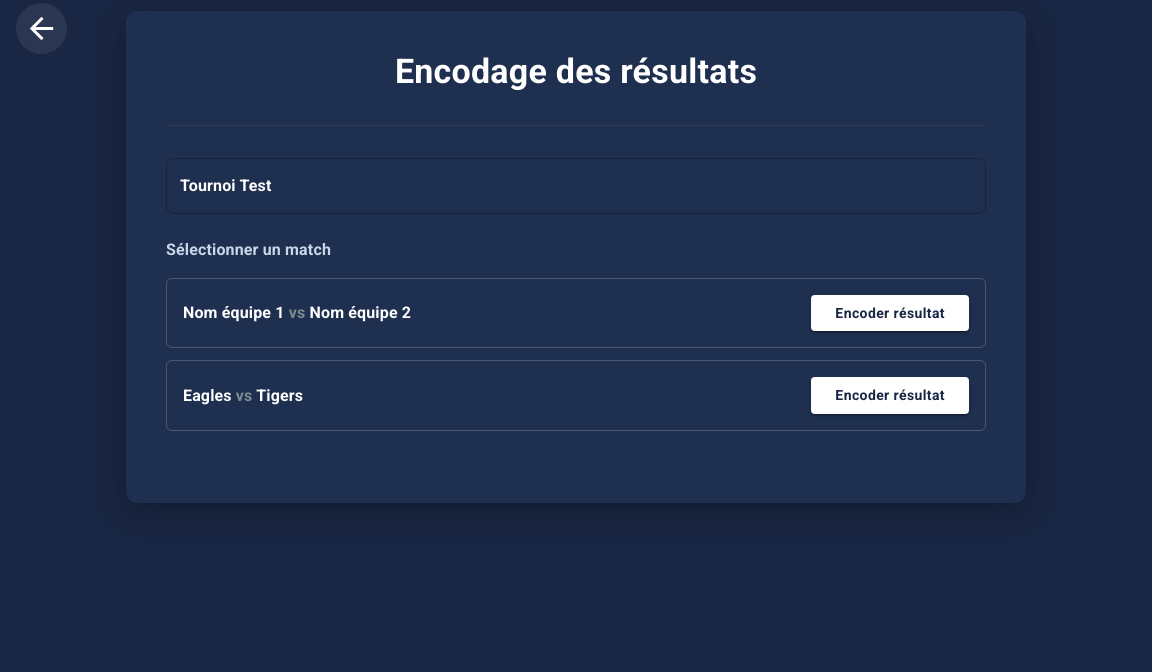
ResultEncodingPage › affiche le message de succès après encodage
Click the button "Encoder résultat" in the row of "Nom équipe 2": [890, 313] box [811, 295, 969, 332]
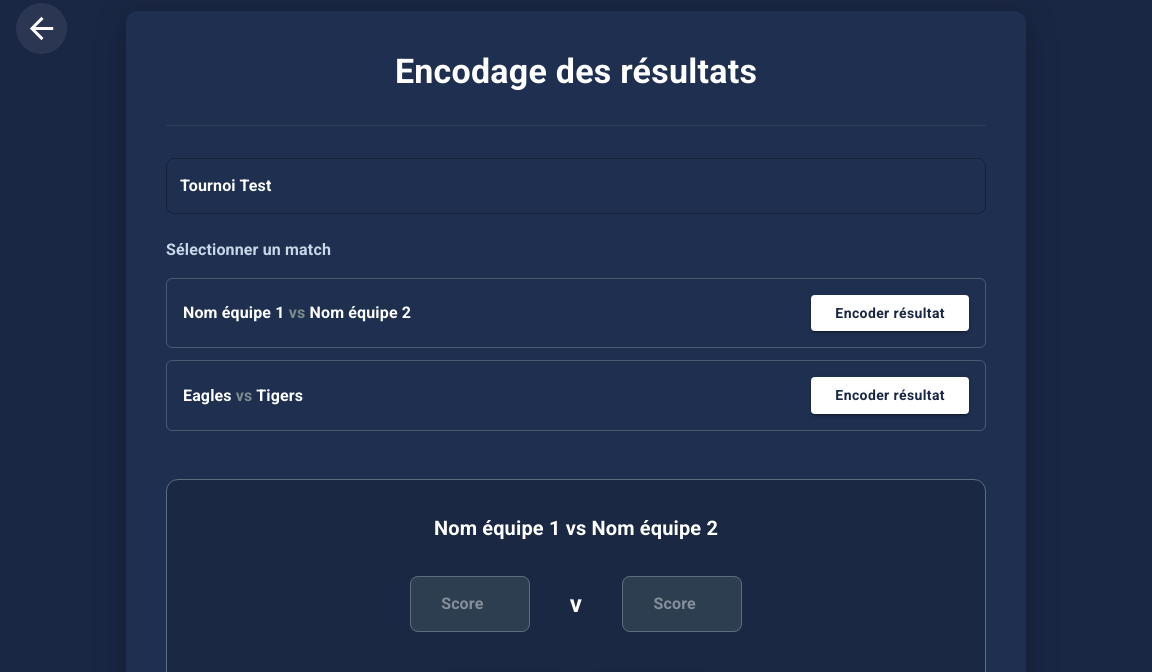
In the 1st number field with placeholder "Score": [470, 604] box [410, 576, 530, 632], type "3"
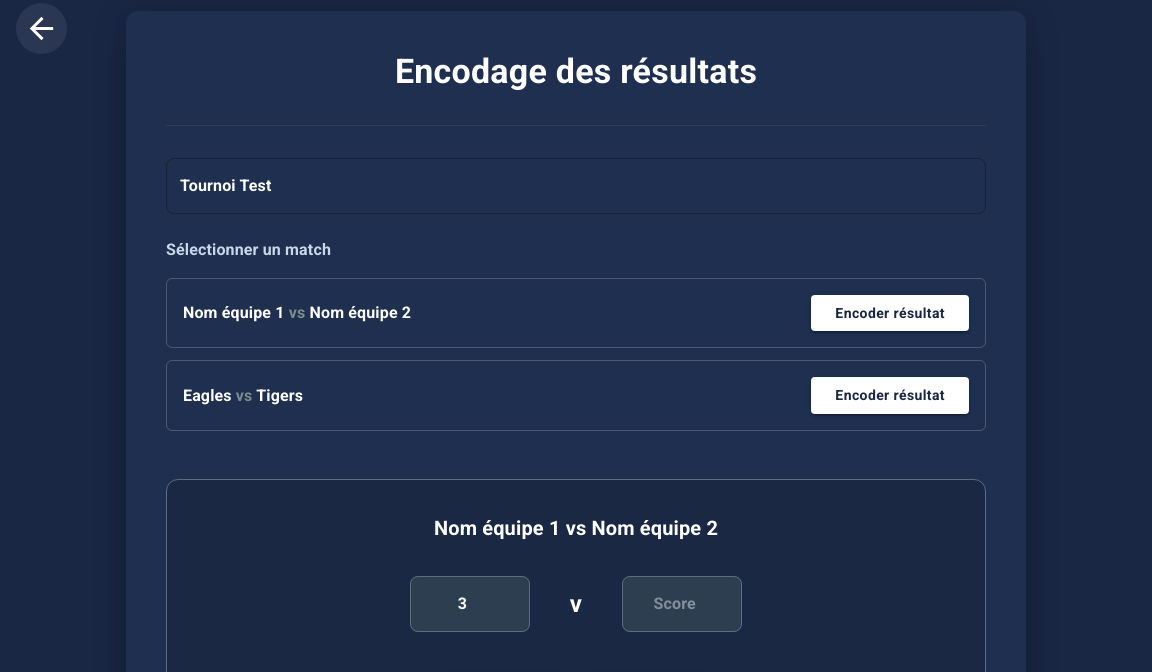
In the number field with placeholder "Score": [682, 604] box [622, 576, 742, 632], type "1"
(page scrolled)
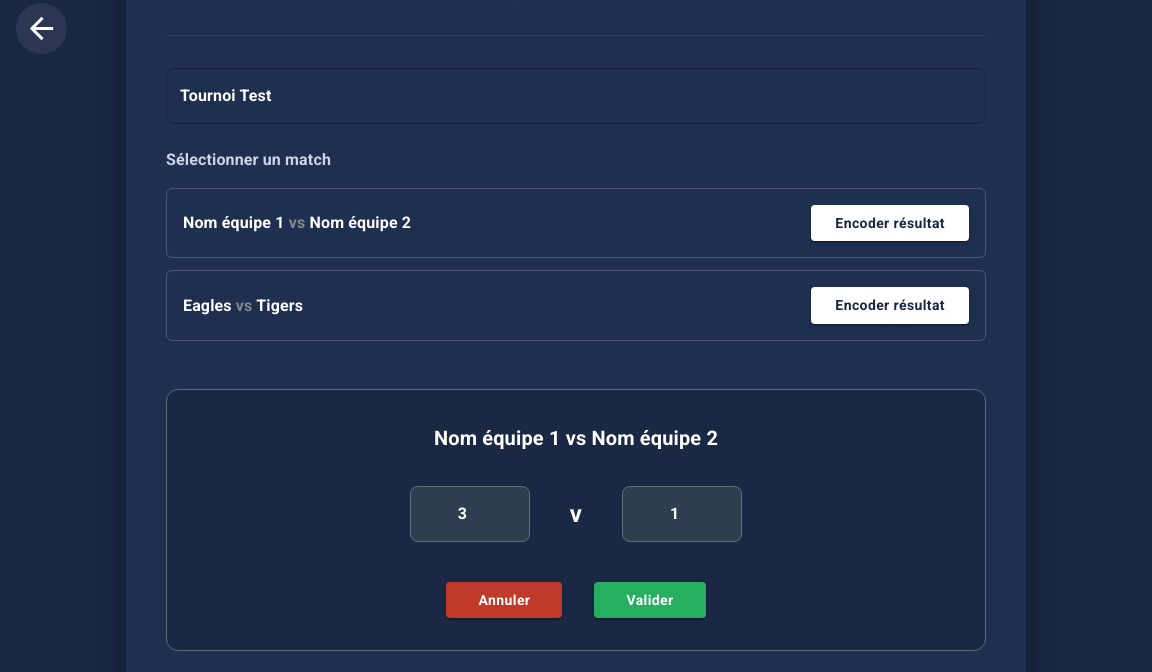
Click the button "Valider": [650, 600] box [594, 582, 706, 618]
(page scrolled)
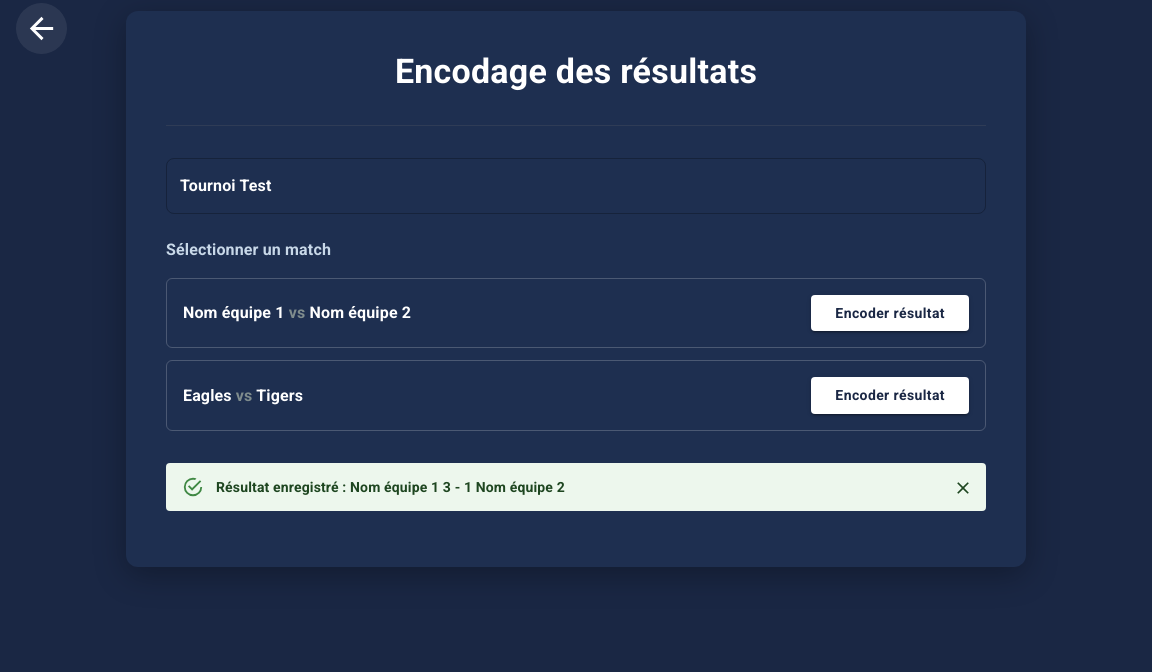
expect the text "Résultat enregistré : Nom équipe 1 3 - 1 Nom équipe 2" is shown: met, box [216, 479, 565, 495]
